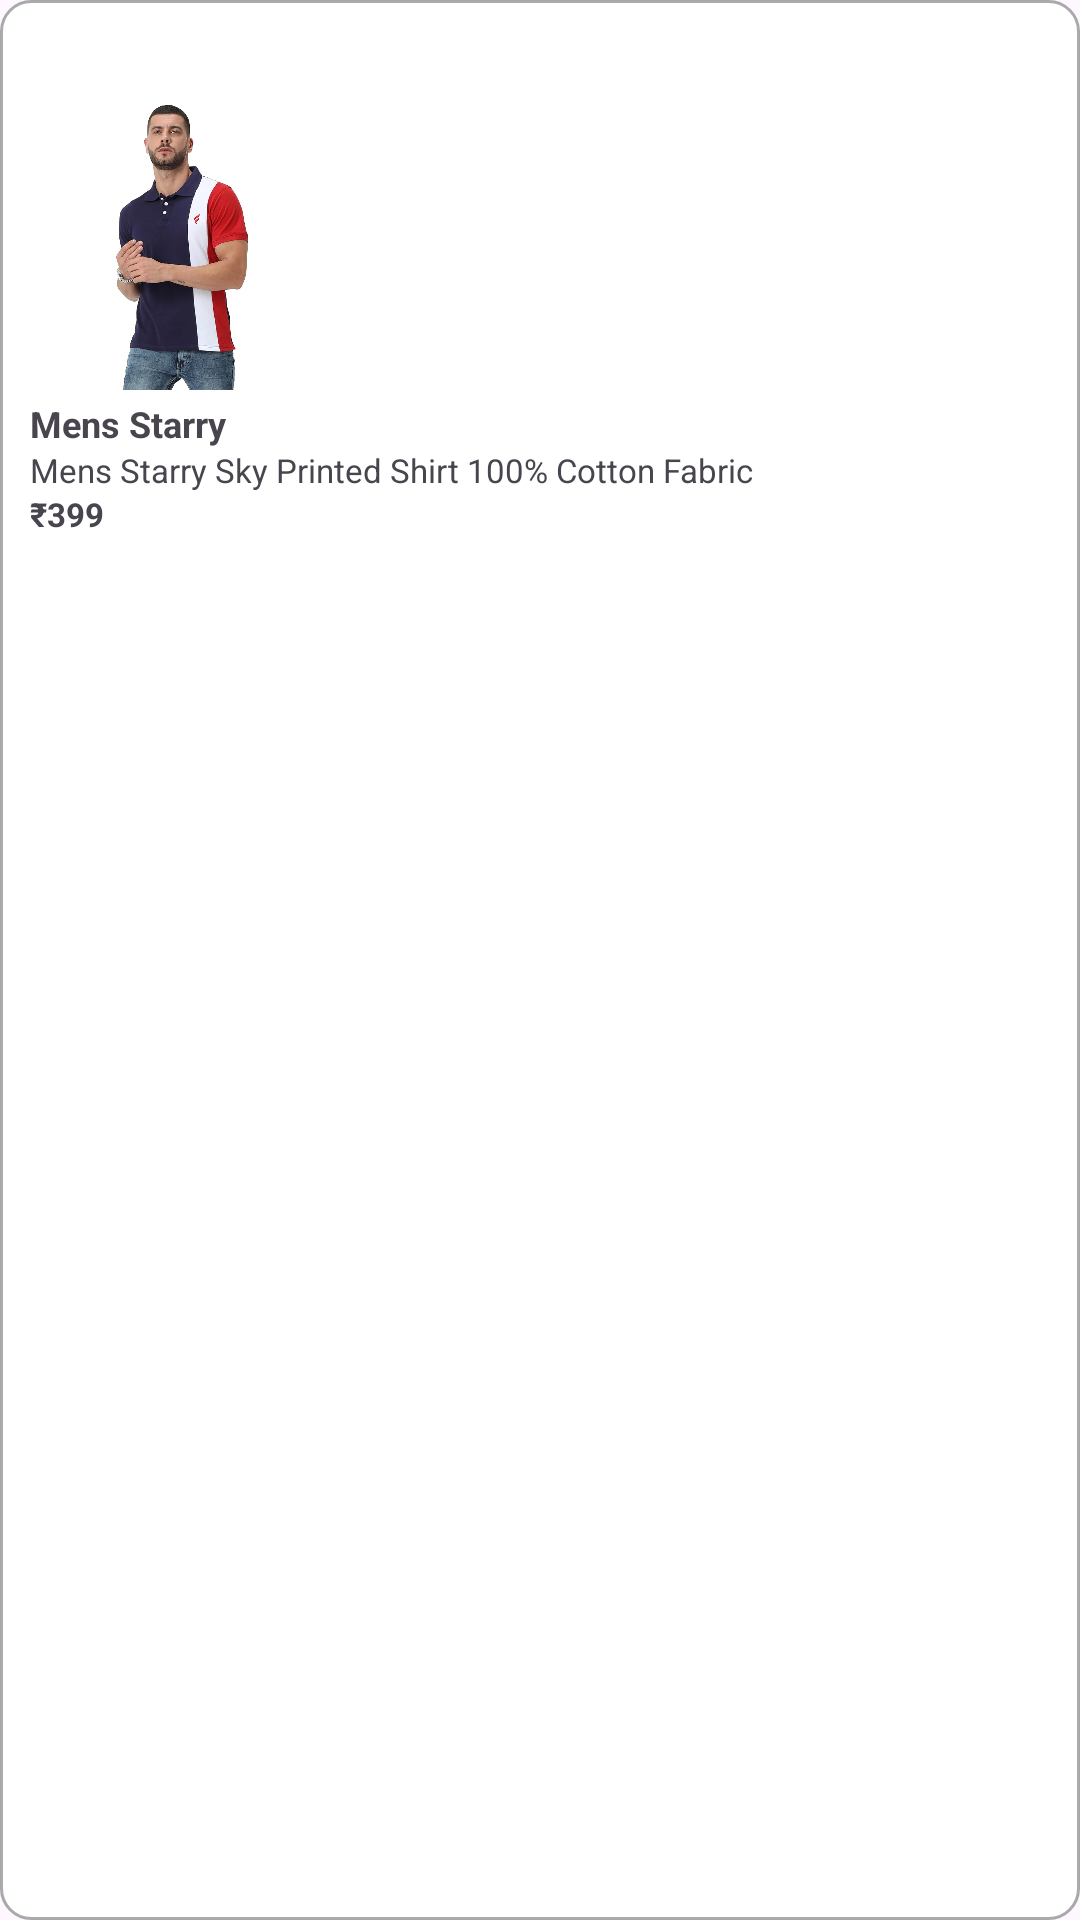

Named icons in this screenshot (1080 × 1920) and their bounding boxes, (x1, y1, x2, y2):
Product: (116, 105, 248, 390)
